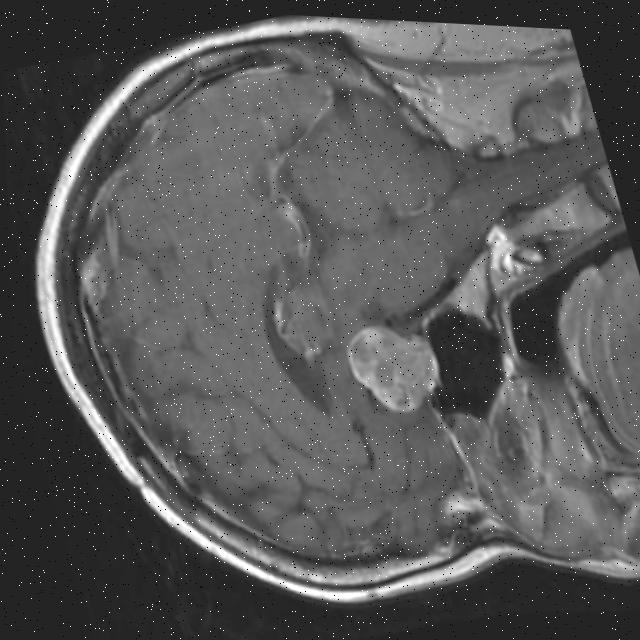Pituitary: (339, 310, 450, 425)
